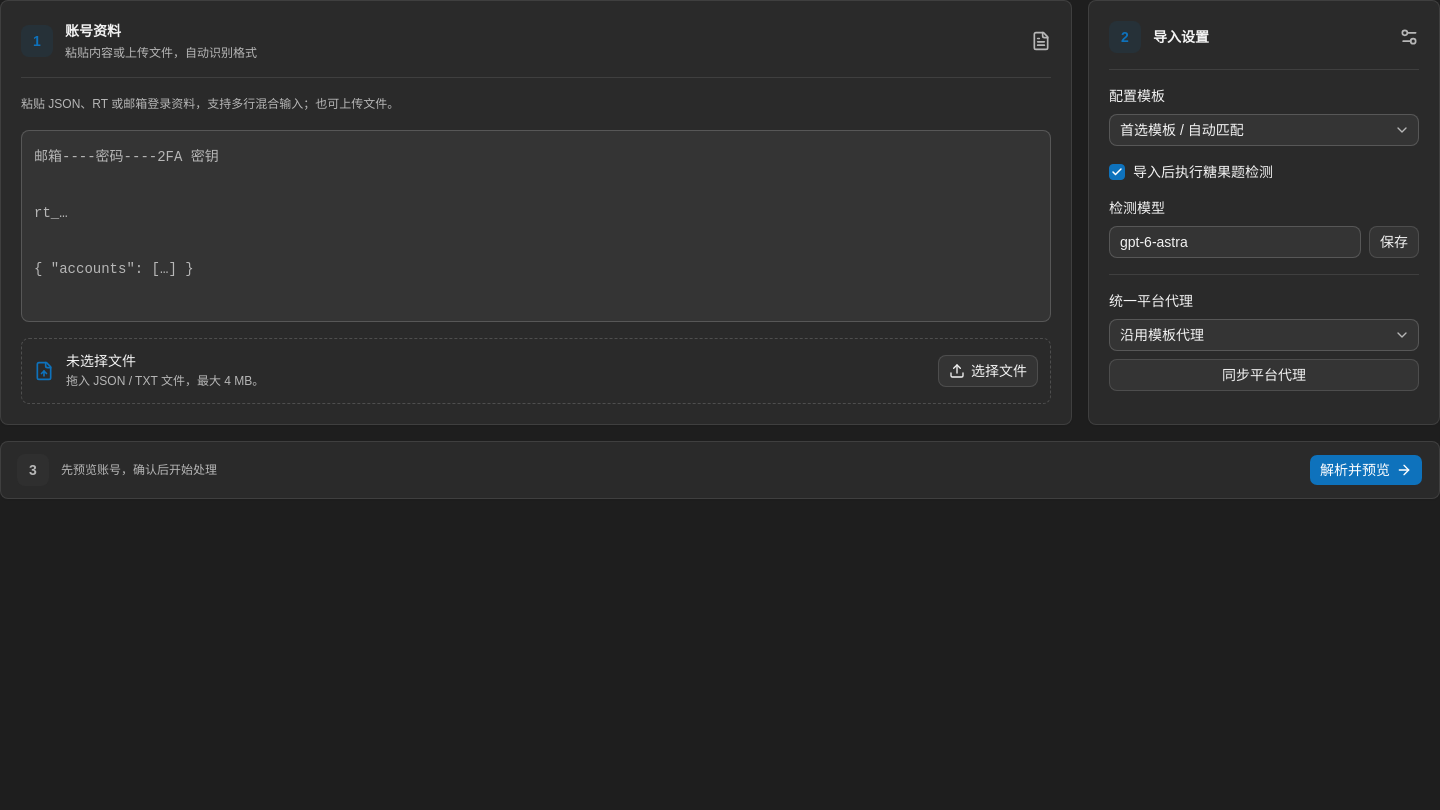
Test: 模板后台刷新失败保留已选模板和可用入口
Click the dropdown named "配置模板". click: (1182, 130)
box: [1109, 114, 1419, 146]
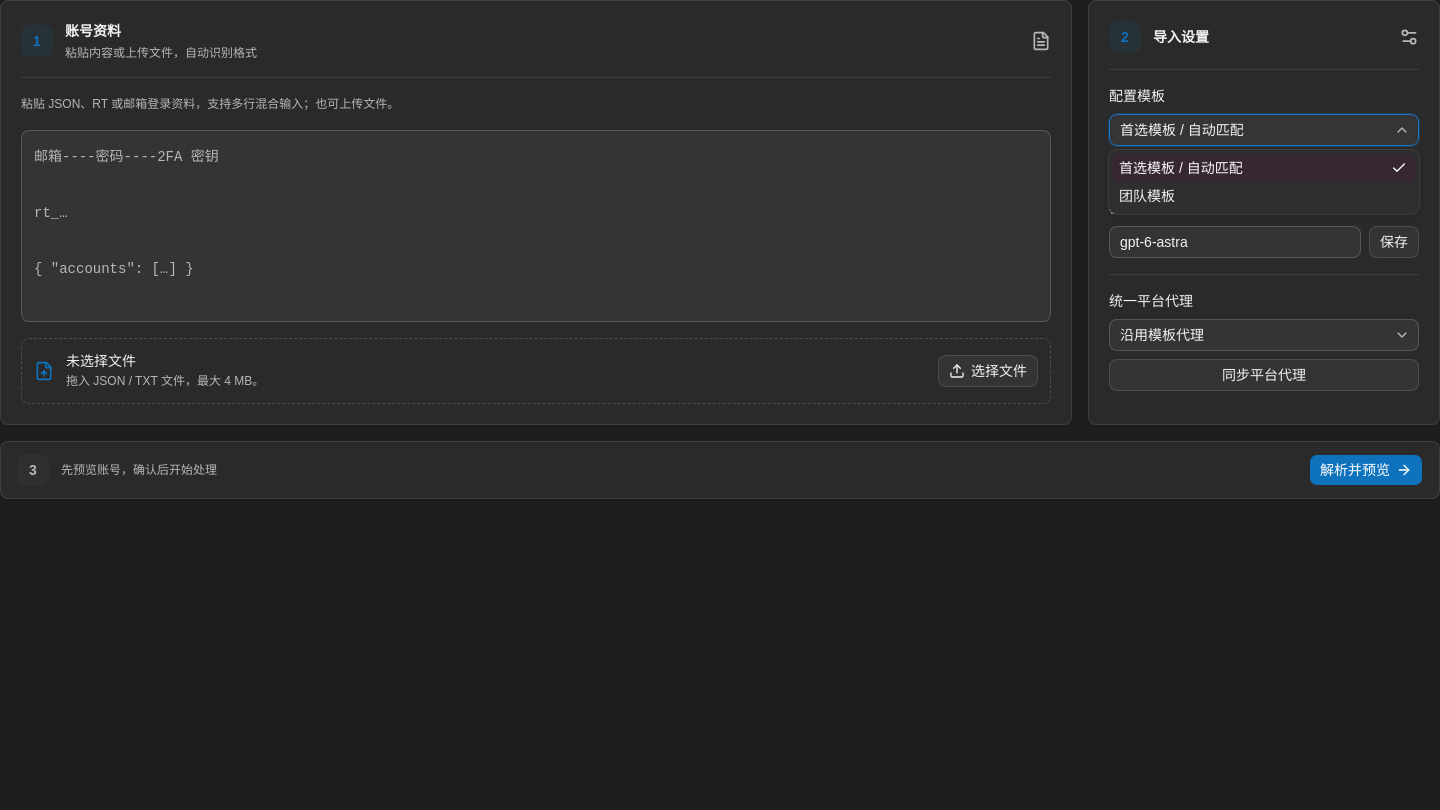
Click the option "团队模板". click: (1147, 196)
box: [1119, 188, 1175, 204]
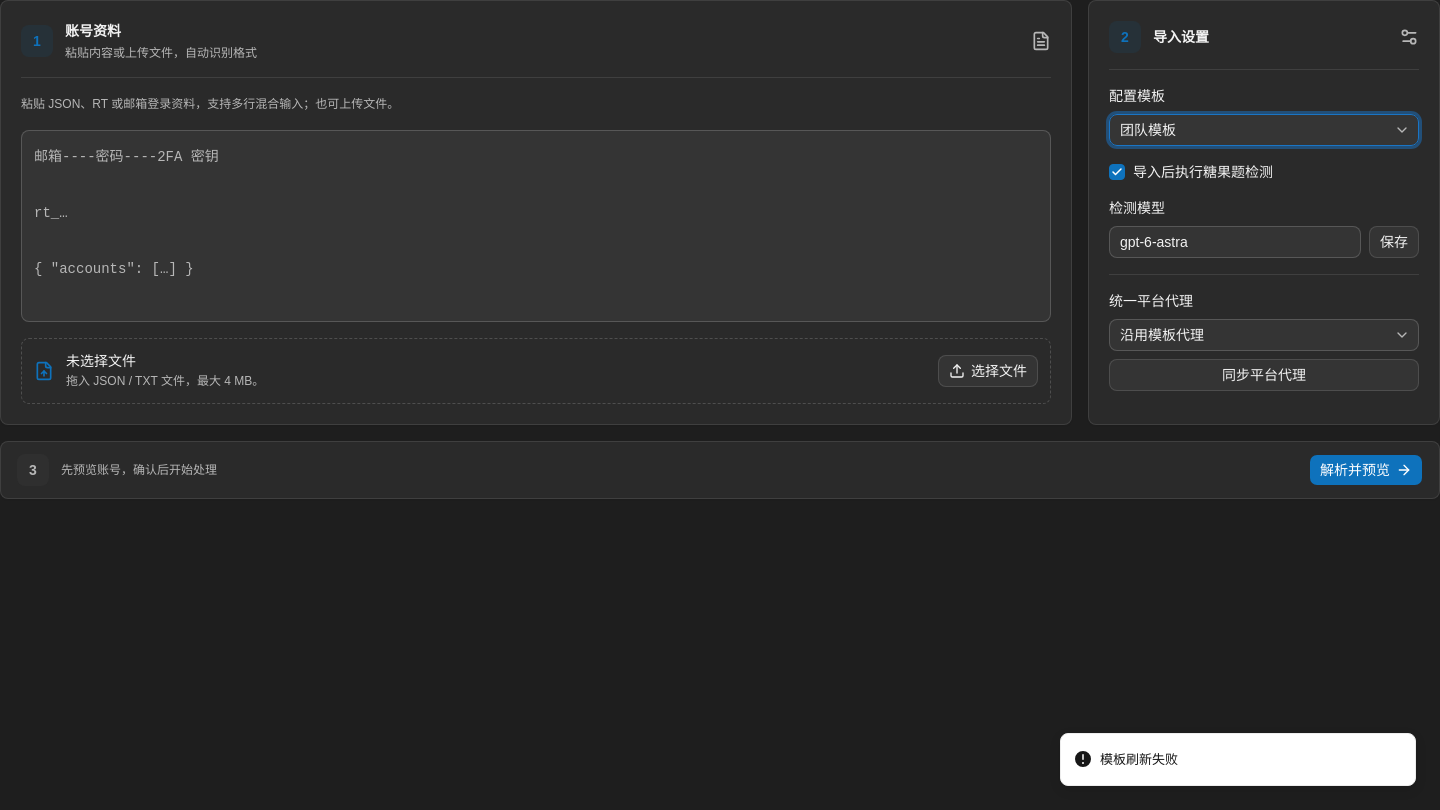
Expected: the dropdown named "配置模板" is enabled, [1109, 114, 1419, 146]
Expected: the text "模板刷新失败" is shown, [1100, 750, 1178, 769]
Expected: the dropdown named "配置模板" shows "团队模板", [1109, 114, 1419, 146]
